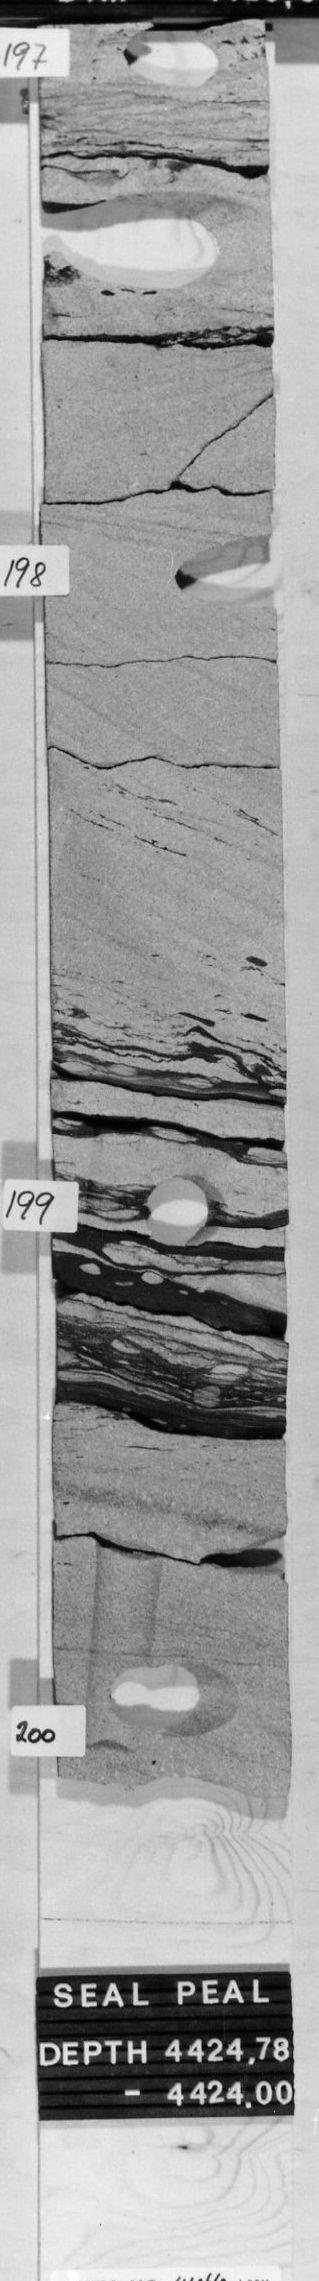hplug: (111, 1661, 245, 1746), (165, 530, 272, 621), (137, 1174, 240, 1255), (119, 25, 245, 92)
scal: (38, 189, 269, 300)
vplug: (83, 1538, 170, 1661)
